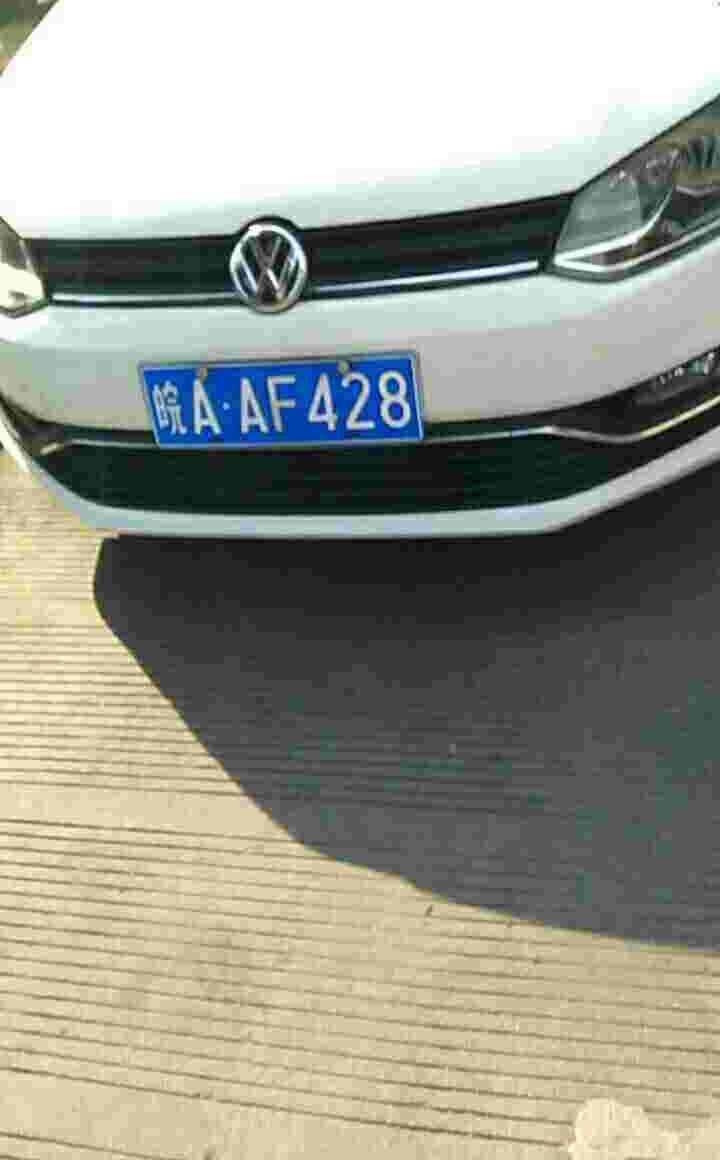license_plate: (149, 361, 419, 458)
